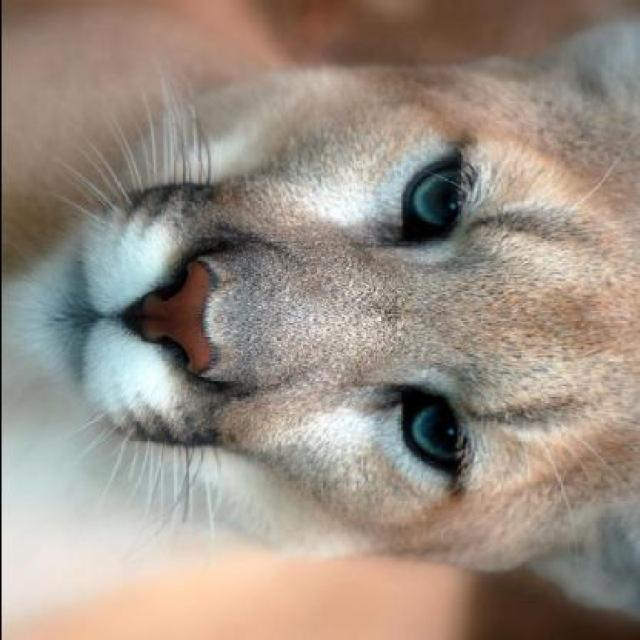Lion: (1, 31, 632, 597)
